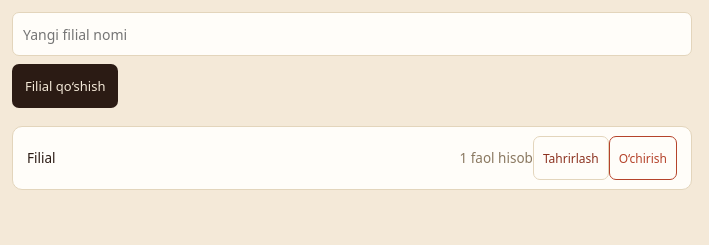
it: preserves a branch name after a rejected save
Step 1. Type "New branch" into the field with placeholder "Yangi filial nomi" → (352, 34), box [12,12,692,56]
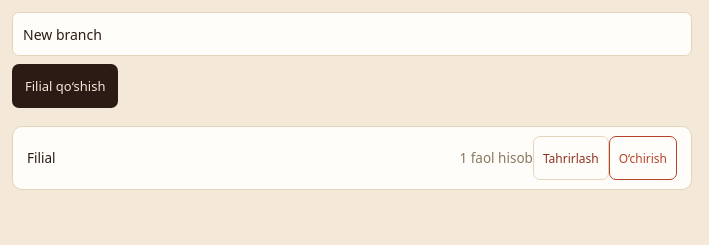
Step 2. Click the button "Filial qo‘shish" → (65, 86), box [12,64,118,108]
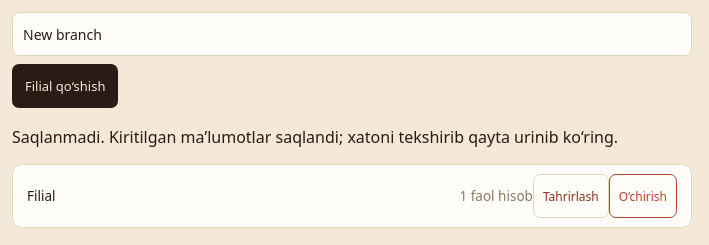
Result: the text "Saqlanmadi" is shown at [12,126,618,148]
